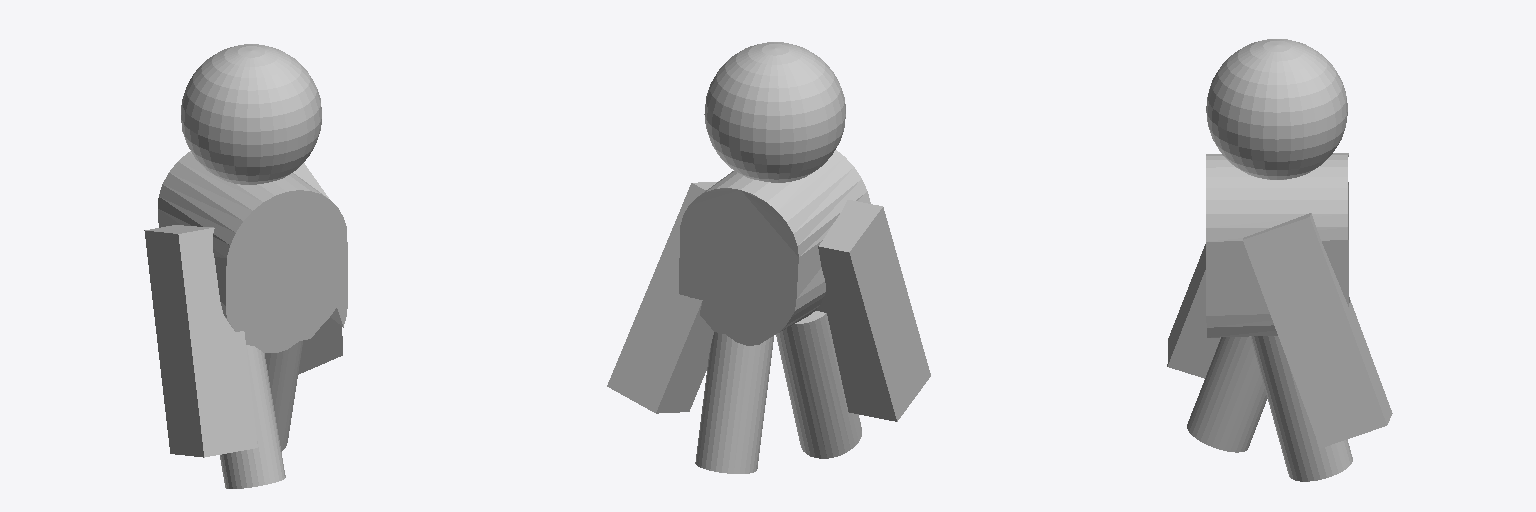
File: Figurine102.obj
3 views of the same model, side by side, from view 1: azimuth 30°, elevation 25°; view 2: azimuth 150°, elevation 25°; view 3: azimuth 270°, elevation 25° (orthographic).
Visible parts, largest first — view 1: Cylinder; view 2: Cylinder; view 3: Cylinder.
Boxes of the visible parts, x1=… form: Cylinder: x1=144, y1=44, x2=347, y2=488; Cylinder: x1=607, y1=42, x2=930, y2=473; Cylinder: x1=1167, y1=39, x2=1392, y2=481.
Bounding box in the file's own units: 3.49 × 6.46 × 3.17.